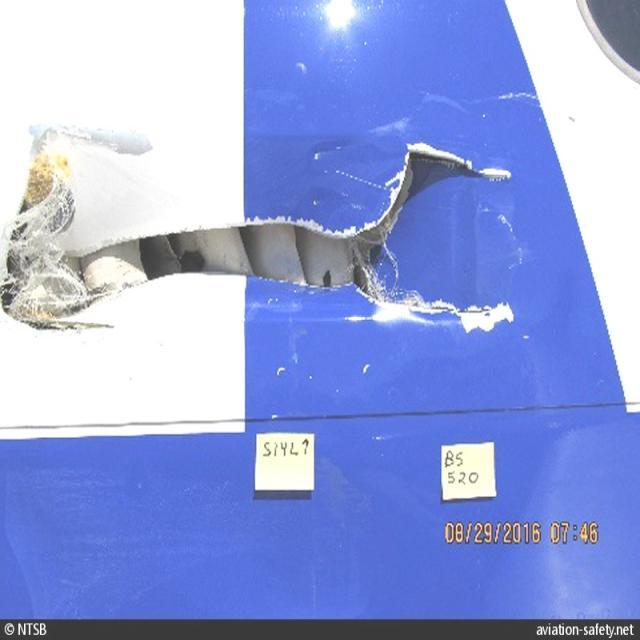crack: (411, 132, 514, 199), (383, 283, 506, 334)
